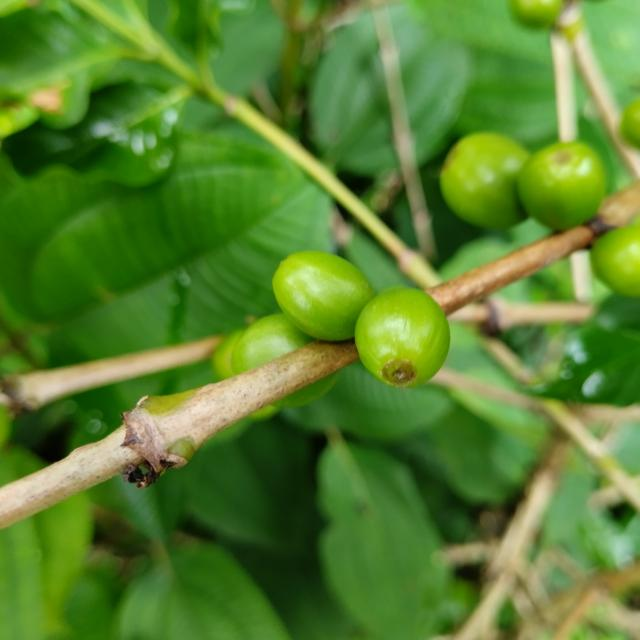green: (355, 287, 451, 388), (272, 251, 374, 341), (440, 132, 530, 228), (518, 141, 606, 230), (231, 313, 314, 375), (592, 225, 640, 297), (274, 372, 339, 408)
